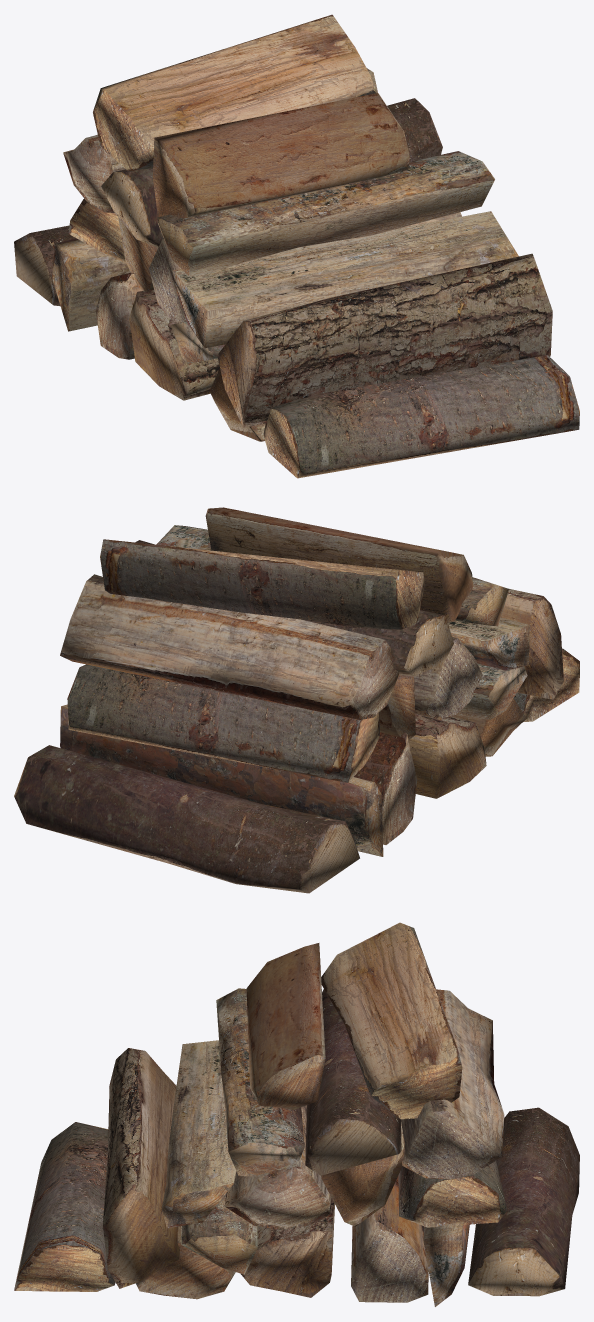
File: Lumber3.fbx
3 views of the same model, one above another, from view 1: azimuth 30°, elevation 25°; view 2: azimuth 150°, elevation 25°; view 3: azimuth 270°, elevation 25° (orthographic). The views are drawn at different scales.
Parts seen in each view (by area): view 1: polySurface204; view 2: polySurface204; view 3: polySurface204.
Boxes of the visible parts, x1=… form: polySurface204: x1=14, y1=14, x2=579, y2=478; polySurface204: x1=14, y1=507, x2=579, y2=893; polySurface204: x1=14, y1=922, x2=579, y2=1306.
Size of the model in its own units: 75.55 by 61.13 by 125.
